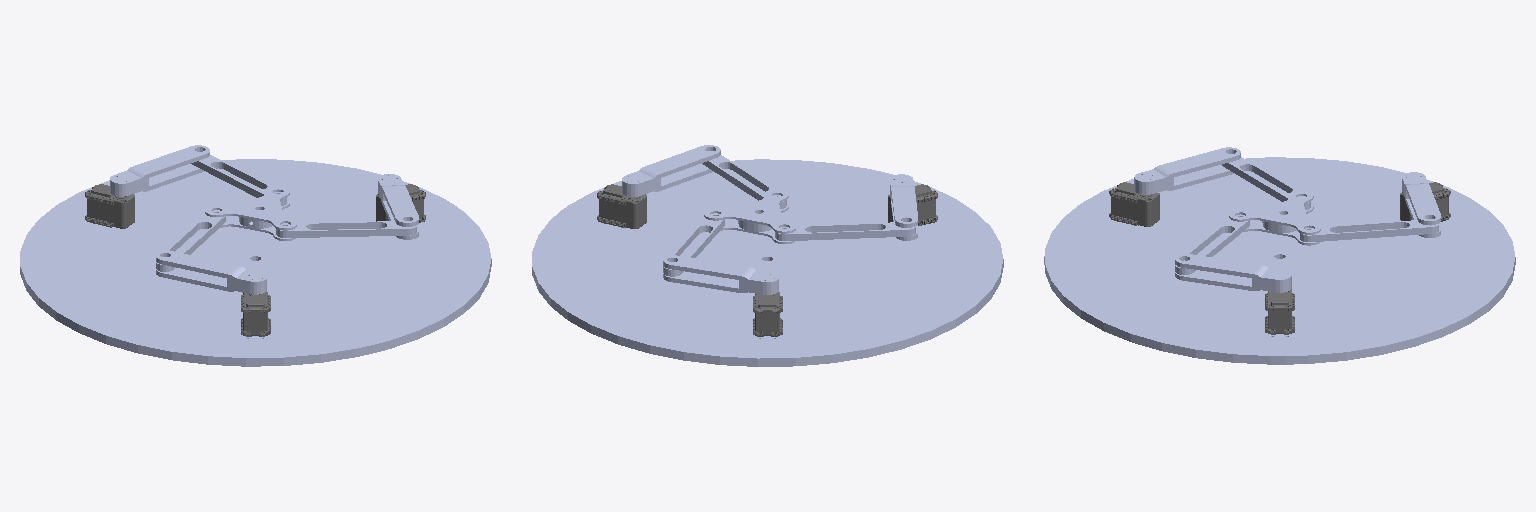
URDF robot description (Assemblage robot.SLDASM):
<?xml version="1.0" encoding="utf-8"?>
<!-- This URDF was automatically created by SolidWorks to URDF Exporter! Originally created by [author] ([email redacted]) 
     Commit Version: 1.6.0-4-g7f85cfe  Build Version: 1.6.7995.38578
     For more information, please see http://wiki.ros.org/sw_urdf_exporter -->
<robot
  name="Assemblage robot.SLDASM">
  <link
    name="base_link">
    <inertial>
      <origin
        xyz="-0.0403480015130501 -0.0588408355698763 0.25"
        rpy="0 0 0" />
      <mass
        value="1.96206989902972" />
      <inertia
        ixx="0.030690056134984"
        ixy="1.49280254374294E-22"
        ixz="-2.90547190159251E-20"
        iyy="0.0613474111053754"
        iyz="5.26525752468185E-23"
        izz="0.030690056134984" />
    </inertial>
    <visual>
      <origin
        xyz="0 0 0"
        rpy="0 0 0" />
      <geometry>
        <mesh
          filename="../../pkg/meshes/base_link.STL" />
      </geometry>
      <material
        name="">
        <color
          rgba="0.792156862745098 0.819607843137255 0.933333333333333 1" />
      </material>
    </visual>
    <collision>
      <origin
        xyz="0 0 0"
        rpy="0 0 0" />
      <geometry>
        <mesh
          filename="../../pkg/meshes/base_link.STL" />
      </geometry>
    </collision>
  </link>
  <link
    name="motorlink1">
    <inertial>
      <origin
        xyz="0.0131512694837505 5.39620906292448E-09 -0.0139566400172044"
        rpy="0 0 0" />
      <mass
        value="0.0409974108496484" />
      <inertia
        ixx="3.49131607594938E-06"
        ixy="9.88260696544679E-12"
        ixz="3.27236958055941E-08"
        iyy="8.63986146390157E-06"
        iyz="9.71889112447394E-14"
        izz="9.87033430667145E-06" />
    </inertial>
    <visual>
      <origin
        xyz="0 0 0"
        rpy="0 0 0" />
      <geometry>
        <mesh
          filename="../../pkg/meshes/motorlink1.STL" />
      </geometry>
      <material
        name="">
        <color
          rgba="0.501960784313725 0.501960784313725 0.501960784313725 1" />
      </material>
    </visual>
    <collision>
      <origin
        xyz="0 0 0"
        rpy="0 0 0" />
      <geometry>
        <mesh
          filename="../../pkg/meshes/motorlink1.STL" />
      </geometry>
    </collision>
  </link>
  <joint
    name="fixmotor_1"
    type="fixed">
    <origin
      xyz="-0.12235 -0.10797 -0.048341"
      rpy="-3.1416 0 2.0944" />
    <parent
      link="base_link" />
    <child
      link="motorlink1" />
    <axis
      xyz="0 0 0" />
  </joint>
  <link
    name="motor_to_arm_1">
    <inertial>
      <origin
        xyz="1.10397802011164E-13 0.01 0.0444232687310696"
        rpy="0 0 0" />
      <mass
        value="0.0355074379609409" />
      <inertia
        ixx="4.62818048469936E-05"
        ixy="1.37758703478112E-22"
        ixz="-1.37642853928824E-21"
        iyy="4.65648442596019E-05"
        iyz="-1.35304196821167E-20"
        izz="3.35873560210417E-06" />
    </inertial>
    <visual>
      <origin
        xyz="0 0 0"
        rpy="0 0 0" />
      <geometry>
        <mesh
          filename="../../pkg/meshes/motor_to_arm_1.STL" />
      </geometry>
      <material
        name="">
        <color
          rgba="0.792156862745098 0.819607843137255 0.933333333333333 1" />
      </material>
    </visual>
    <collision>
      <origin
        xyz="0 0 0"
        rpy="0 0 0" />
      <geometry>
        <mesh
          filename="../../pkg/meshes/motor_to_arm_1.STL" />
      </geometry>
    </collision>
  </link>
  <joint
    name="motor_to_arm_1"
    type="revolute">
    <origin
      xyz="0 0 -0.032"
      rpy="-1.5708 0 0.36222" />
    <parent
      link="motorlink1" />
    <child
      link="motor_to_arm_1" />
    <axis
      xyz="0 1 0" />
    <limit
      lower="0"
      upper="0"
      effort="0"
      velocity="0" />
  </joint>
  <link
    name="arm_to_forearm_1">
    <inertial>
      <origin
        xyz="0.0650000000000759 -8.61275014155116E-09 1.19373261275868E-13"
        rpy="0 0 0" />
      <mass
        value="0.0109351977210963" />
      <inertia
        ixx="5.81316954923406E-07"
        ixy="1.91961662490668E-20"
        ixz="-2.83226641738157E-21"
        iyy="2.81855423219156E-05"
        iyz="-6.16229664333959E-23"
        izz="2.77208669758026E-05" />
    </inertial>
    <visual>
      <origin
        xyz="0 0 0"
        rpy="0 0 0" />
      <geometry>
        <mesh
          filename="../../pkg/meshes/arm_to_forearm_1.STL" />
      </geometry>
      <material
        name="">
        <color
          rgba="0.792156862745098 0.819607843137255 0.933333333333333 1" />
      </material>
    </visual>
    <collision>
      <origin
        xyz="0 0 0"
        rpy="0 0 0" />
      <geometry>
        <mesh
          filename="../../pkg/meshes/arm_to_forearm_1.STL" />
      </geometry>
    </collision>
  </link>
  <joint
    name="arm_to_forearm_1"
    type="revolute">
    <origin
      xyz="-0.13 0.009 0.10791"
      rpy="0 0.0031304 0" />
    <parent
      link="motor_to_arm_1" />
    <child
      link="arm_to_forearm_1" />
    <axis
      xyz="0 0 0" />
    <limit
      lower="0"
      upper="0"
      effort="0"
      velocity="0" />
  </joint>
  <link
    name="forearm_to_hand_1">
    <inertial>
      <origin
        xyz="-8.91398519464182E-05 -7.62357354675003E-09 -5.14647581260769E-05"
        rpy="0 0 0" />
      <mass
        value="0.0345687906870945" />
      <inertia
        ixx="1.26148214524484E-05"
        ixy="3.45985484701739E-14"
        ixz="2.47225065364167E-08"
        iyy="2.34723709026256E-05"
        iyz="2.245403074125E-15"
        izz="1.25862742881842E-05" />
    </inertial>
    <visual>
      <origin
        xyz="0 0 0"
        rpy="0 0 0" />
      <geometry>
        <mesh
          filename="../../pkg/meshes/forearm_to_hand_1.STL" />
      </geometry>
      <material
        name="">
        <color
          rgba="0.792156862745098 0.819607843137255 0.933333333333333 1" />
      </material>
    </visual>
    <collision>
      <origin
        xyz="0 0 0"
        rpy="0 0 0" />
      <geometry>
        <mesh
          filename="../../pkg/meshes/forearm_to_hand_1.STL" />
      </geometry>
    </collision>
  </link>
  <joint
    name="forearm_to_hand_1"
    type="revolute">
    <origin
      xyz="-0.020412 0.001 -0.041433"
      rpy="-3.1416 0.58944 -3.1416" />
    <parent
      link="arm_to_forearm_1" />
    <child
      link="forearm_to_hand_1" />
    <axis
      xyz="0 0 0" />
    <limit
      lower="0"
      upper="0"
      effort="0"
      velocity="0" />
  </joint>
  <link
    name="motorlink2">
    <inertial>
      <origin
        xyz="0.0131512694853841 5.39378475217234E-09 -0.0139566400156128"
        rpy="0 0 0" />
      <mass
        value="0.040997410845192" />
      <inertia
        ixx="3.4913160748518E-06"
        ixy="9.88222676284995E-12"
        ixz="3.27236958766167E-08"
        iyy="8.63986146259069E-06"
        iyz="9.74775331604424E-14"
        izz="9.87033430421258E-06" />
    </inertial>
    <visual>
      <origin
        xyz="0 0 0"
        rpy="0 0 0" />
      <geometry>
        <mesh
          filename="../../pkg/meshes/motorlink2.STL" />
      </geometry>
      <material
        name="">
        <color
          rgba="0.501960784313725 0.501960784313725 0.501960784313725 1" />
      </material>
    </visual>
    <collision>
      <origin
        xyz="0 0 0"
        rpy="0 0 0" />
      <geometry>
        <mesh
          filename="../../pkg/meshes/motorlink2.STL" />
      </geometry>
    </collision>
  </link>
  <joint
    name="fixmotor_2"
    type="fixed">
    <origin
      xyz="-0.12235 -0.39203 -0.048341"
      rpy="-3.1416 0 -2.0944" />
    <parent
      link="base_link" />
    <child
      link="motorlink2" />
    <axis
      xyz="0 0 0" />
  </joint>
  <link
    name="motor_to_arm_2">
    <inertial>
      <origin
        xyz="-1.84630088995164E-13 0.0100000000000001 0.0444232687309167"
        rpy="0 0 0" />
      <mass
        value="0.0355074379609409" />
      <inertia
        ixx="4.62818048469935E-05"
        ixy="7.94238686407822E-22"
        ixz="-1.24302085009569E-19"
        iyy="4.65648442596019E-05"
        iyz="-3.20221196380447E-20"
        izz="3.35873560210416E-06" />
    </inertial>
    <visual>
      <origin
        xyz="0 0 0"
        rpy="0 0 0" />
      <geometry>
        <mesh
          filename="../../pkg/meshes/motor_to_arm_2.STL" />
      </geometry>
      <material
        name="">
        <color
          rgba="0.792156862745098 0.819607843137255 0.933333333333333 1" />
      </material>
    </visual>
    <collision>
      <origin
        xyz="0 0 0"
        rpy="0 0 0" />
      <geometry>
        <mesh
          filename="../../pkg/meshes/motor_to_arm_2.STL" />
      </geometry>
    </collision>
  </link>
  <joint
    name="motor_to_arm_2"
    type="revolute">
    <origin
      xyz="0 0 -0.032"
      rpy="-1.5708 0 0.47261" />
    <parent
      link="motorlink2" />
    <child
      link="motor_to_arm_2" />
    <axis
      xyz="0 1 0" />
    <limit
      lower="0"
      upper="0"
      effort="0"
      velocity="0" />
  </joint>
  <link
    name="arm_to_forearm_2">
    <inertial>
      <origin
        xyz="0.0649999999999998 -8.61274995073158E-09 -1.30895294603306E-13"
        rpy="0 0 0" />
      <mass
        value="0.0109351977210963" />
      <inertia
        ixx="5.81316954923414E-07"
        ixy="-6.06882664591892E-20"
        ixz="-3.86652805669255E-17"
        iyy="2.81855423219156E-05"
        iyz="1.56388370675898E-22"
        izz="2.77208669758026E-05" />
    </inertial>
    <visual>
      <origin
        xyz="0 0 0"
        rpy="0 0 0" />
      <geometry>
        <mesh
          filename="../../pkg/meshes/arm_to_forearm_2.STL" />
      </geometry>
      <material
        name="">
        <color
          rgba="0.792156862745098 0.819607843137255 0.933333333333333 1" />
      </material>
    </visual>
    <collision>
      <origin
        xyz="0 0 0"
        rpy="0 0 0" />
      <geometry>
        <mesh
          filename="../../pkg/meshes/arm_to_forearm_2.STL" />
      </geometry>
    </collision>
  </link>
  <joint
    name="arm_to_forearm_2"
    type="revolute">
    <origin
      xyz="0 0.009 0.1075"
      rpy="-3.1416 -0.040061 -3.1416" />
    <parent
      link="motor_to_arm_2" />
    <child
      link="arm_to_forearm_2" />
    <axis
      xyz="0 0 0" />
    <limit
      lower="0"
      upper="0"
      effort="0"
      velocity="0" />
  </joint>
  <link
    name="forearm_to_hand_2">
    <inertial>
      <origin
        xyz="-8.91398518202413E-05 -7.62357354761739E-09 -5.14647581208033E-05"
        rpy="0 0 0" />
      <mass
        value="0.0345687906870945" />
      <inertia
        ixx="1.26148214524482E-05"
        ixy="3.45985486463859E-14"
        ixz="2.47225065365357E-08"
        iyy="2.34723709026256E-05"
        iyz="2.24540243143276E-15"
        izz="1.25862742881844E-05" />
    </inertial>
    <visual>
      <origin
        xyz="0 0 0"
        rpy="0 0 0" />
      <geometry>
        <mesh
          filename="../../pkg/meshes/forearm_to_hand_2.STL" />
      </geometry>
      <material
        name="">
        <color
          rgba="0.792156862745098 0.819607843137255 0.933333333333333 1" />
      </material>
    </visual>
    <collision>
      <origin
        xyz="0 0 0"
        rpy="0 0 0" />
      <geometry>
        <mesh
          filename="../../pkg/meshes/forearm_to_hand_2.STL" />
      </geometry>
    </collision>
  </link>
  <joint
    name="forearm_to_hand_2"
    type="revolute">
    <origin
      xyz="0.1534 0.001 0.039823"
      rpy="3.1416 -0.53122 -3.1416" />
    <parent
      link="arm_to_forearm_2" />
    <child
      link="forearm_to_hand_2" />
    <axis
      xyz="0 0 0" />
    <limit
      lower="0"
      upper="0"
      effort="0"
      velocity="0" />
  </joint>
  <link
    name="motorlink3">
    <inertial>
      <origin
        xyz="0.0131512694782309 -5.39631245244365E-09 0.000456640028107663"
        rpy="0 0 0" />
      <mass
        value="0.040997410879004" />
      <inertia
        ixx="3.49131608018831E-06"
        ixy="-9.88325452782669E-12"
        ixz="-3.27236953918786E-08"
        iyy="8.63986146690134E-06"
        iyz="9.75250854232677E-14"
        izz="9.87033431386499E-06" />
    </inertial>
    <visual>
      <origin
        xyz="0 0 0"
        rpy="0 0 0" />
      <geometry>
        <mesh
          filename="../../pkg/meshes/motorlink3.STL" />
      </geometry>
      <material
        name="">
        <color
          rgba="0.501960784313725 0.501960784313725 0.501960784313725 1" />
      </material>
    </visual>
    <collision>
      <origin
        xyz="0 0 0"
        rpy="0 0 0" />
      <geometry>
        <mesh
          filename="../../pkg/meshes/motorlink3.STL" />
      </geometry>
    </collision>
  </link>
  <joint
    name="fixmotor_3"
    type="fixed">
    <origin
      xyz="0.12365 -0.25 -0.034841"
      rpy="0 0 0" />
    <parent
      link="base_link" />
    <child
      link="motorlink3" />
    <axis
      xyz="0 0 0" />
  </joint>
  <link
    name="motor_to_arm_3">
    <inertial>
      <origin
        xyz="-1.94289029309402E-15 0.0100000000000001 0.044423268731141"
        rpy="0 0 0" />
      <mass
        value="0.0355074379609409" />
      <inertia
        ixx="4.62818048469935E-05"
        ixy="-4.60775490101713E-22"
        ixz="8.63973606199386E-20"
        iyy="4.65648442596018E-05"
        iyz="3.9374367976181E-20"
        izz="3.35873560210416E-06" />
    </inertial>
    <visual>
      <origin
        xyz="0 0 0"
        rpy="0 0 0" />
      <geometry>
        <mesh
          filename="../../pkg/meshes/motor_to_arm_3.STL" />
      </geometry>
      <material
        name="">
        <color
          rgba="0.792156862745098 0.819607843137255 0.933333333333333 1" />
      </material>
    </visual>
    <collision>
      <origin
        xyz="0 0 0"
        rpy="0 0 0" />
      <geometry>
        <mesh
          filename="../../pkg/meshes/motor_to_arm_3.STL" />
      </geometry>
    </collision>
  </link>
  <joint
    name="motor_to_arm_3"
    type="revolute">
    <origin
      xyz="0 0 0.0185"
      rpy="1.5708 0 -0.34135" />
    <parent
      link="motorlink3" />
    <child
      link="motor_to_arm_3" />
    <axis
      xyz="0 1 0" />
    <limit
      lower="0"
      upper="0"
      effort="0"
      velocity="0" />
  </joint>
  <link
    name="arm_to_forearm_3">
    <inertial>
      <origin
        xyz="0.0649999999999944 -8.61275002098788E-09 3.71924713249427E-15"
        rpy="0 0 0" />
      <mass
        value="0.0109351977210963" />
      <inertia
        ixx="5.81316954923411E-07"
        ixy="1.5263971325812E-20"
        ixz="-2.59403840096629E-20"
        iyy="2.81855423219156E-05"
        iyz="6.39341115690422E-22"
        izz="2.77208669758026E-05" />
    </inertial>
    <visual>
      <origin
        xyz="0 0 0"
        rpy="0 0 0" />
      <geometry>
        <mesh
          filename="../../pkg/meshes/arm_to_forearm_3.STL" />
      </geometry>
      <material
        name="">
        <color
          rgba="0.792156862745098 0.819607843137255 0.933333333333333 1" />
      </material>
    </visual>
    <collision>
      <origin
        xyz="0 0 0"
        rpy="0 0 0" />
      <geometry>
        <mesh
          filename="../../pkg/meshes/arm_to_forearm_3.STL" />
      </geometry>
    </collision>
  </link>
  <joint
    name="arm_to_forearm_3"
    type="revolute">
    <origin
      xyz="-0.12884 0.009 0.090161"
      rpy="0 -0.13378 0" />
    <parent
      link="motor_to_arm_3" />
    <child
      link="arm_to_forearm_3" />
    <axis
      xyz="0 0 0" />
    <limit
      lower="0"
      upper="0"
      effort="0"
      velocity="0" />
  </joint>
  <link
    name="forearm_to_hand_3">
    <inertial>
      <origin
        xyz="-8.91398519285713E-05 -7.62357354761739E-09 -5.1464758257444E-05"
        rpy="0 0 0" />
      <mass
        value="0.0345687906870945" />
      <inertia
        ixx="1.26148214524483E-05"
        ixy="3.45985485330101E-14"
        ixz="2.47225065364866E-08"
        iyy="2.34723709026256E-05"
        iyz="2.24540305742466E-15"
        izz="1.25862742881843E-05" />
    </inertial>
    <visual>
      <origin
        xyz="0 0 0"
        rpy="0 0 0" />
      <geometry>
        <mesh
          filename="../../pkg/meshes/forearm_to_hand_3.STL" />
      </geometry>
      <material
        name="">
        <color
          rgba="0.792156862745098 0.819607843137255 0.933333333333333 1" />
      </material>
    </visual>
    <collision>
      <origin
        xyz="0 0 0"
        rpy="0 0 0" />
      <geometry>
        <mesh
          filename="../../pkg/meshes/forearm_to_hand_3.STL" />
      </geometry>
    </collision>
  </link>
  <joint
    name="forearm_to_hand_3"
    type="revolute">
    <origin
      xyz="-0.025072 0.001 -0.038791"
      rpy="0 -1.5206 0" />
    <parent
      link="arm_to_forearm_3" />
    <child
      link="forearm_to_hand_3" />
    <axis
      xyz="0 0 0" />
    <limit
      lower="0"
      upper="0"
      effort="0"
      velocity="0" />
  </joint>
</robot>

--- Facts derived from the render (not from the file) ---
Views: 3 orthographic renders of the robot side by side, from view 1: azimuth 30°, elevation 25°; view 2: azimuth 150°, elevation 25°; view 3: azimuth 270°, elevation 25°.
Robot: Assemblage robot.SLDASM — 13 links, 12 joints (9 revolute, 3 fixed); root link base_link; default pose: all joints at 0.
Visible links, largest first — view 1: base_link, motor_to_arm_2, motor_to_arm_1, forearm_to_hand_1, arm_to_forearm_3, motorlink1, motor_to_arm_3, motorlink2, arm_to_forearm_1, arm_to_forearm_2, motorlink3; view 2: base_link, motor_to_arm_1, motor_to_arm_3, forearm_to_hand_1, arm_to_forearm_2, motorlink3, motor_to_arm_2, motorlink1, arm_to_forearm_3, arm_to_forearm_1, motorlink2; view 3: base_link, motor_to_arm_3, motor_to_arm_2, forearm_to_hand_1, arm_to_forearm_1, motorlink2, motor_to_arm_1, motorlink3, arm_to_forearm_2, arm_to_forearm_3, motorlink1.
Link boxes in pixels (x1,y1,x2,y2): base_link: (20,159,491,366); motor_to_arm_2: (156,251,266,294); motor_to_arm_1: (110,145,209,196); forearm_to_hand_1: (205,187,296,240); arm_to_forearm_3: (276,221,416,237); motorlink1: (85,184,134,228); motor_to_arm_3: (378,174,418,239); motorlink2: (241,292,270,336); arm_to_forearm_1: (191,155,286,205); arm_to_forearm_2: (156,210,225,271); motorlink3: (376,184,425,222); base_link: (532,159,1003,366); motor_to_arm_1: (663,255,778,294); motor_to_arm_3: (622,145,720,196); forearm_to_hand_1: (704,190,795,243); arm_to_forearm_2: (775,222,915,240); motorlink3: (597,184,646,228); motor_to_arm_2: (890,174,917,240); motorlink1: (753,292,782,336); arm_to_forearm_3: (702,151,786,208); arm_to_forearm_1: (663,213,724,276); motorlink2: (888,184,937,225); base_link: (1044,157,1515,364); motor_to_arm_3: (1175,254,1291,292); motor_to_arm_2: (1134,147,1240,194); forearm_to_hand_1: (1229,191,1320,245); arm_to_forearm_1: (1300,219,1438,241); motorlink2: (1109,182,1159,226); motor_to_arm_1: (1402,172,1440,237); motorlink3: (1265,289,1294,334); arm_to_forearm_2: (1222,157,1310,209); arm_to_forearm_3: (1175,215,1249,274); motorlink1: (1400,182,1450,221).
Bounding box of the posed robot: 0.4997 × 0.5 × 0.0675 m (x, y, z).
11 mesh visuals loaded from 13 distinct referenced files (11 binary STL); not drawn: 2 (reference not matched to a file when rendering).